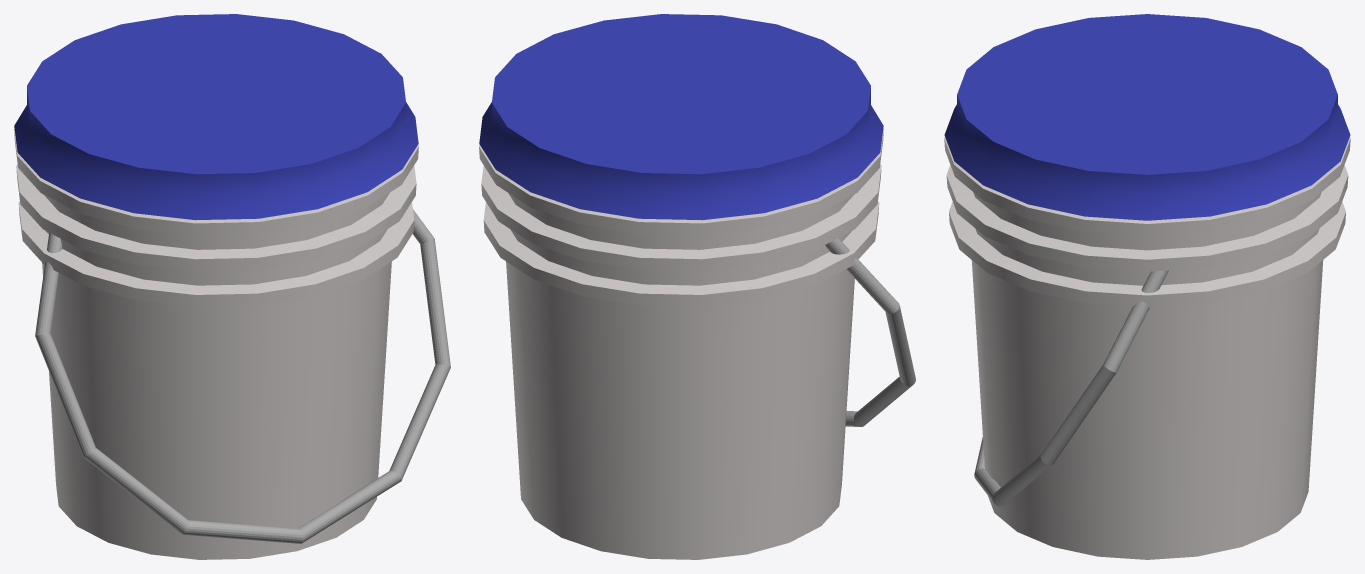
Rendered from Bucket_Paint.fbx.
3 renders of one model, left to right at view 1: azimuth 30°, elevation 25°; view 2: azimuth 150°, elevation 25°; view 3: azimuth 270°, elevation 25°, orthographic.
Visible parts, largest first — view 1: pCylinder2, pCylinder3, pCylinder4; view 2: pCylinder2, pCylinder3, pCylinder4; view 3: pCylinder2, pCylinder3, pCylinder4.
Boxes of the visible parts, x1=… form: pCylinder2: x1=14, y1=128, x2=418, y2=559; pCylinder3: x1=14, y1=14, x2=418, y2=220; pCylinder4: x1=35, y1=209, x2=450, y2=543; pCylinder2: x1=479, y1=128, x2=883, y2=559; pCylinder3: x1=479, y1=14, x2=883, y2=220; pCylinder4: x1=825, y1=238, x2=915, y2=426; pCylinder2: x1=944, y1=137, x2=1350, y2=559; pCylinder3: x1=944, y1=14, x2=1350, y2=220; pCylinder4: x1=974, y1=270, x2=1168, y2=506.
Bounding box in the file's own units: 15.91 × 15.2 × 14.09.
